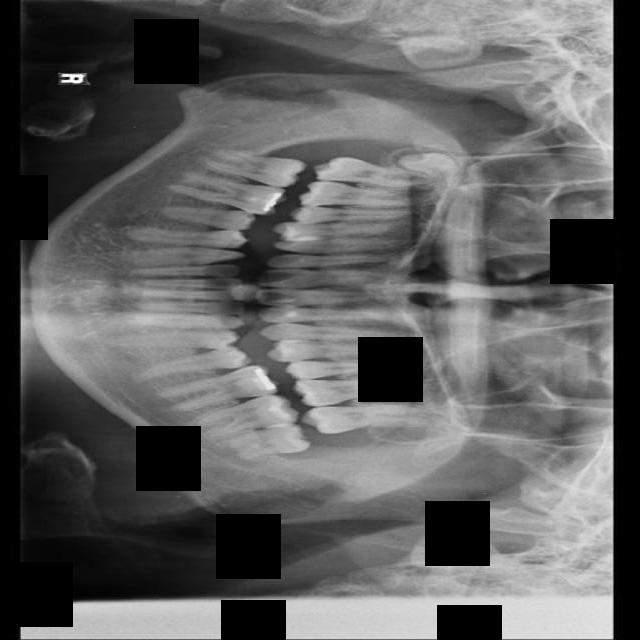3M ESPE Implant: (395, 143, 461, 183)
52: (228, 178, 287, 220), (218, 362, 279, 402), (256, 287, 295, 307), (258, 307, 298, 322)
73: (72, 588, 94, 594)
BioHorizons Implant: (300, 404, 440, 435)
Biomet 3i Implant: (225, 419, 313, 462)
Blue Sky Bio Implant: (190, 389, 300, 441)
Caries: (310, 155, 428, 191)
Implant: (201, 146, 307, 191)
